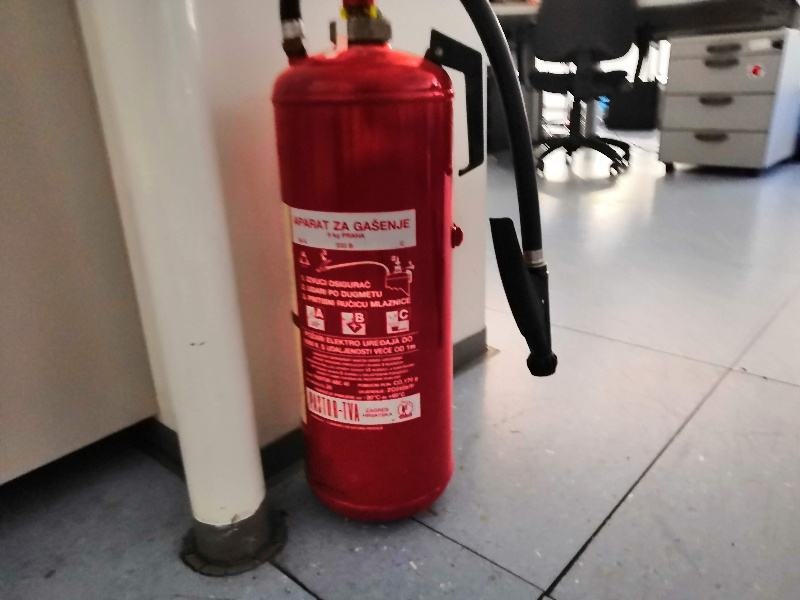vataparat: (273, 1, 557, 517)
